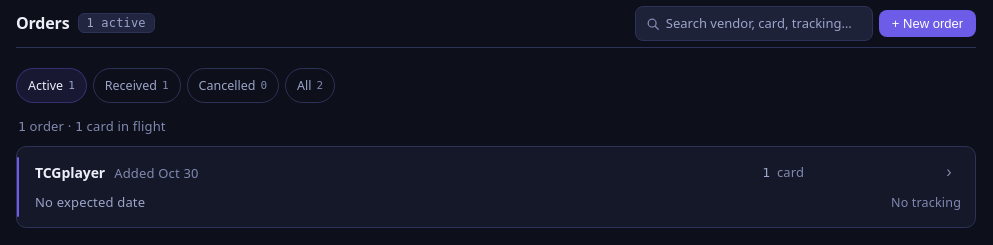
Scenario: OrdersPage › filters by status when chip is clicked
Expected: the text "TCGplayer" is shown, [35,161,105,184]
Expected: the text "Card Kingdom" is not shown
Click the button "Received 1": (137, 86) [93,68,181,103]
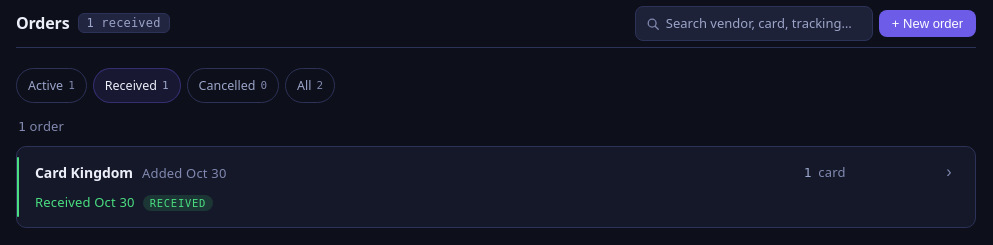
Now the text "TCGplayer" is gone
Now the text "Card Kingdom" is shown, box [35,161,133,184]
